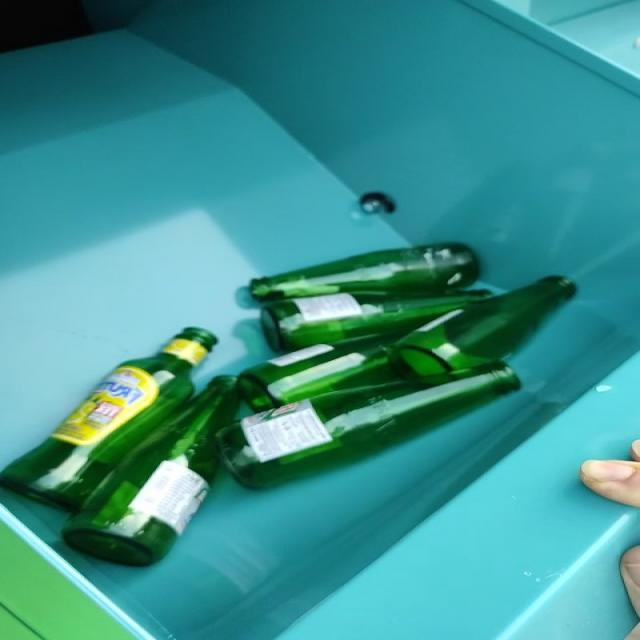glass: (1, 244, 573, 566)
